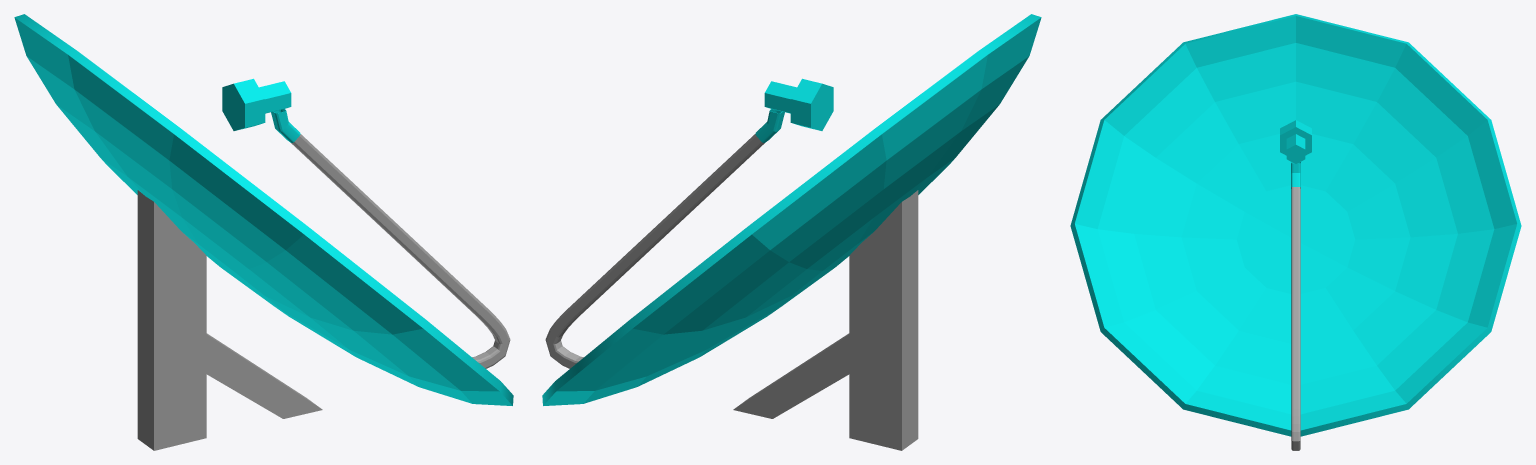
File: Antina01.fbx
3 views of the same model, side by side, from view 1: azimuth 30°, elevation 25°; view 2: azimuth 150°, elevation 25°; view 3: azimuth 270°, elevation 25° (orthographic). The views are drawn at different scales.
Visible parts, largest first — view 1: polySurface272, polySurface270, polySurface273, polySurface274, polySurface271; view 2: polySurface272, polySurface270, polySurface273, polySurface274, polySurface271; view 3: polySurface272, polySurface273, polySurface274.
Boxes of the visible parts, <box> form: polySurface272: <box>14,14,513,405</box>; polySurface270: <box>137,190,322,450</box>; polySurface273: <box>291,134,510,368</box>; polySurface274: <box>222,78,291,130</box>; polySurface271: <box>271,109,300,142</box>; polySurface272: <box>542,14,1041,405</box>; polySurface270: <box>733,190,918,450</box>; polySurface273: <box>545,134,764,368</box>; polySurface274: <box>764,78,833,130</box>; polySurface271: <box>755,109,784,142</box>; polySurface272: <box>1070,14,1521,436</box>; polySurface273: <box>1291,187,1300,450</box>; polySurface274: <box>1280,120,1311,163</box>.
Bounding box in the file's own units: 78.52 × 71.03 × 98.7.
